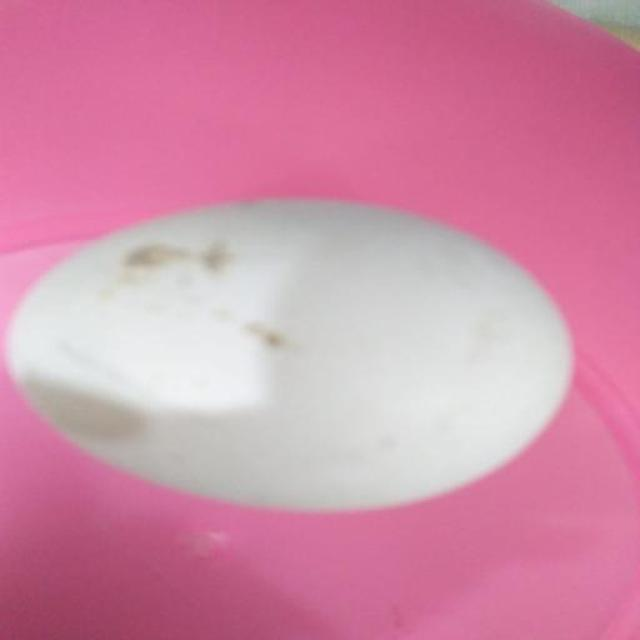telur: (6, 198, 570, 514)
